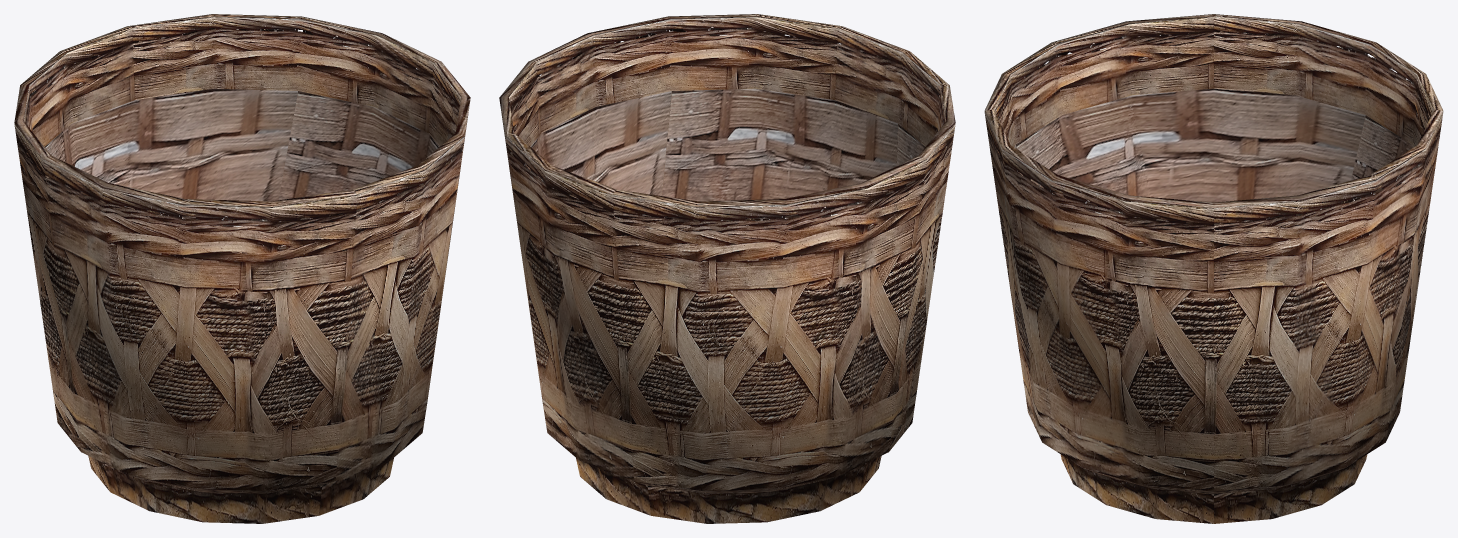
Rendered from FlowerPot1.fbx.
3 renders of one model, left to right at view 1: azimuth 30°, elevation 25°; view 2: azimuth 150°, elevation 25°; view 3: azimuth 270°, elevation 25°, orthographic.
Parts seen in each view (by area): view 1: FlowerPot1_LOD0; view 2: FlowerPot1_LOD0; view 3: FlowerPot1_LOD0.
Part boxes in pixels (left/top/right/bottom): FlowerPot1_LOD0: left=14, top=14, right=470, bottom=523; FlowerPot1_LOD0: left=499, top=14, right=955, bottom=523; FlowerPot1_LOD0: left=984, top=14, right=1443, bottom=523.
Size of what is drawn, in the model's own units: 65.64 by 55.24 by 65.64.
